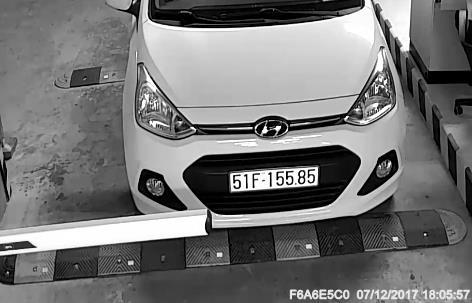License-plate: (226, 166, 325, 198)
